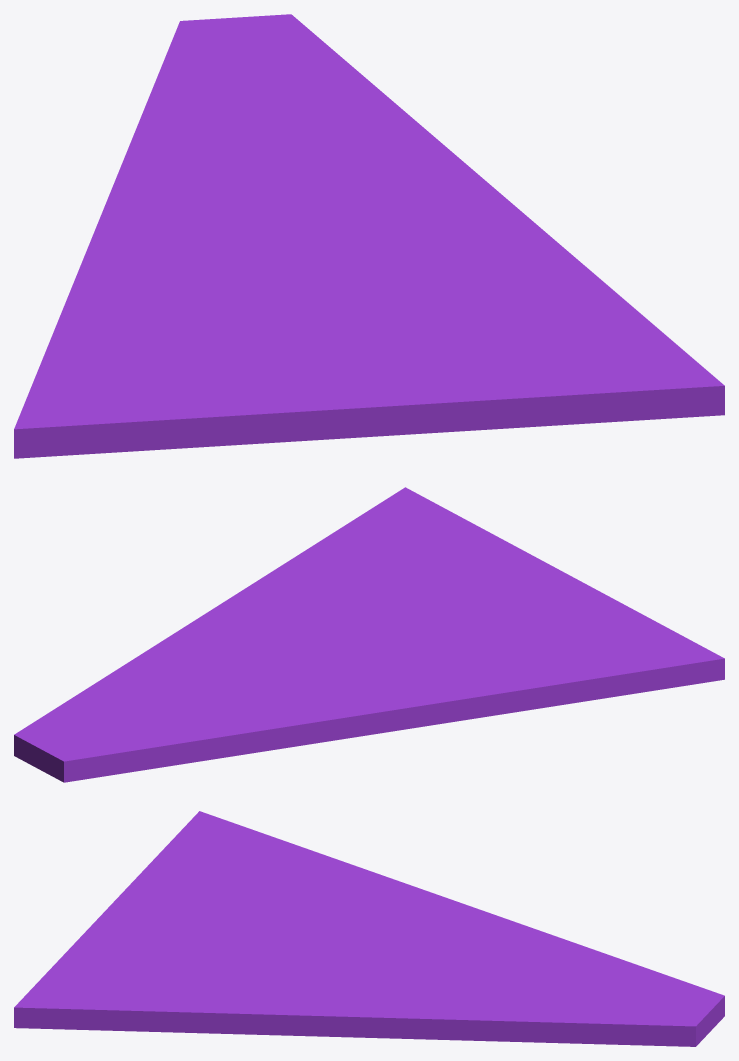
Rendered from StairsStep_12.fbx.
3 renders of one model, top to bottom at view 1: azimuth 30°, elevation 25°; view 2: azimuth 150°, elevation 25°; view 3: azimuth 270°, elevation 25°, orthographic. The views are drawn at different scales.
Parts seen in each view (by area): view 1: StairsStep_12; view 2: StairsStep_12; view 3: StairsStep_12.
Boxes of the visible parts, x1,y1,x2,y2 form: StairsStep_12: [14, 14, 724, 458]; StairsStep_12: [14, 487, 724, 782]; StairsStep_12: [14, 811, 724, 1046].
Bounding box in the file's own units: 404 × 17.94 × 563.
